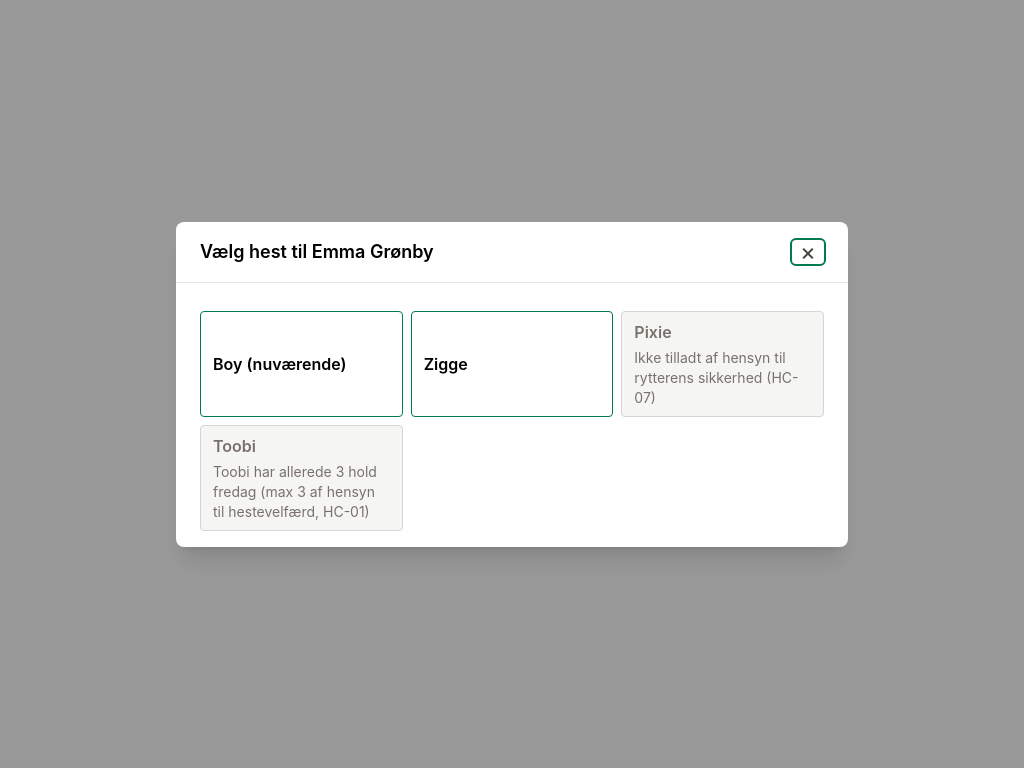
Test: HestVaelger › viser en 422 fra API’et som fejl i dialogen og lukker ikke
Click the button "Zigge" at (512, 364), box [411,310,613,416]
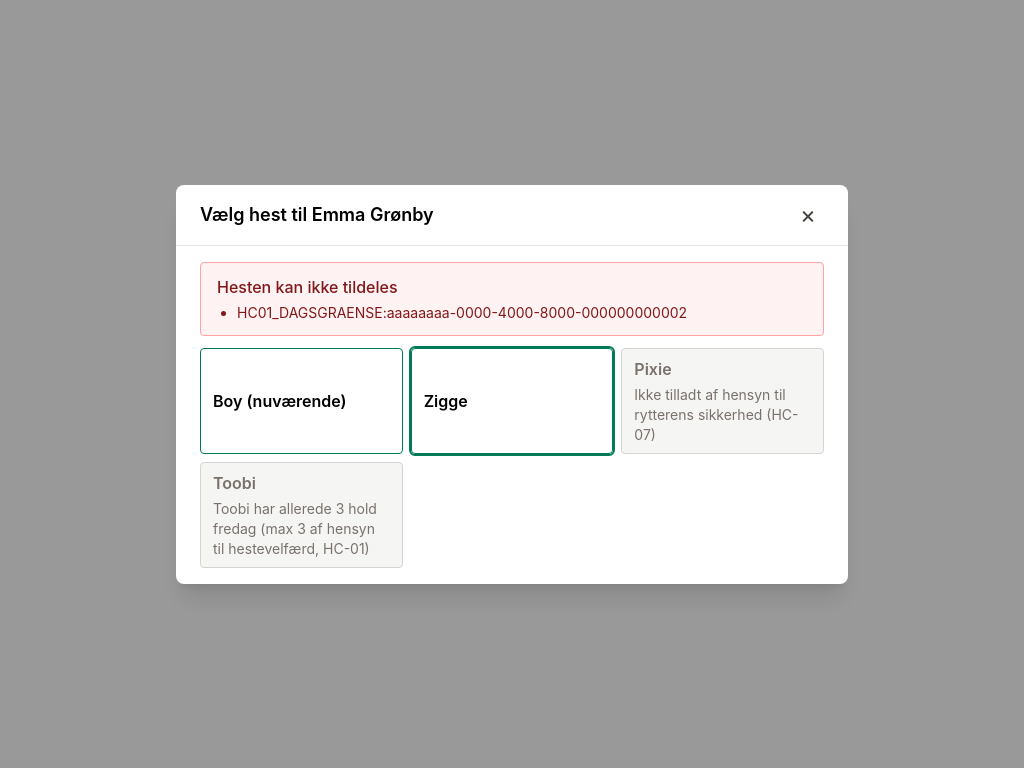
Result: the message shows "Hesten kan ikke tildeles" at [217,276,398,296]
